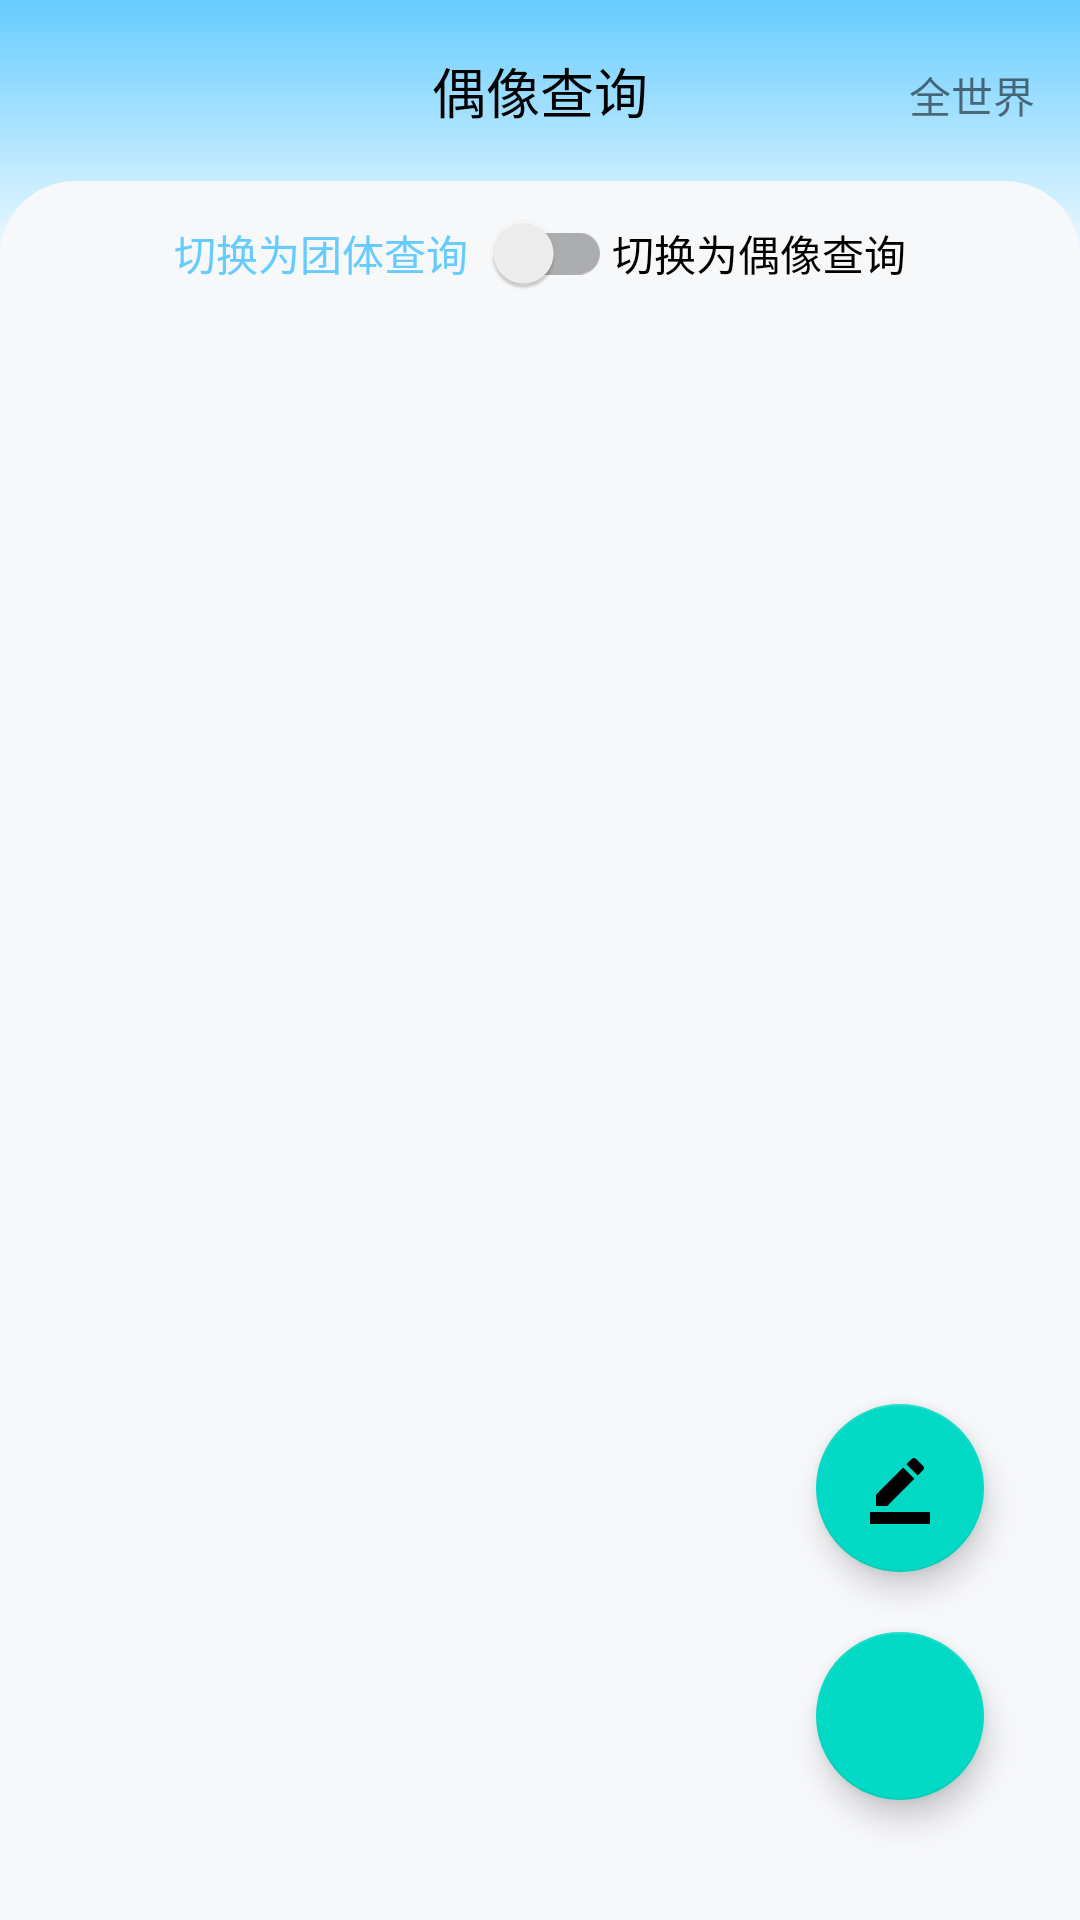

Named icons in this screenshot (1080 x 1920) and their bounding boxes, bbox=(x1, y1, x2, y2):
edit: bbox=(816, 1404, 984, 1572)
